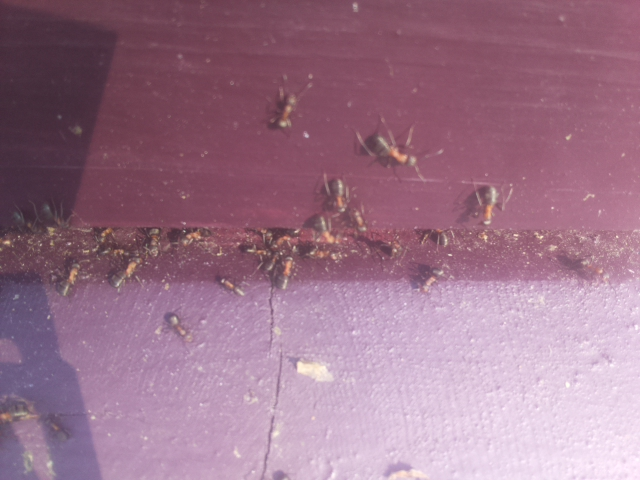ant: (312, 168, 368, 233), (365, 122, 423, 178), (262, 83, 307, 136), (159, 302, 198, 349), (270, 251, 299, 296), (413, 262, 450, 297), (56, 257, 84, 299), (477, 180, 502, 227), (108, 255, 141, 290), (320, 175, 348, 216), (215, 271, 249, 302), (41, 414, 74, 445), (311, 215, 344, 243), (144, 224, 162, 259)
